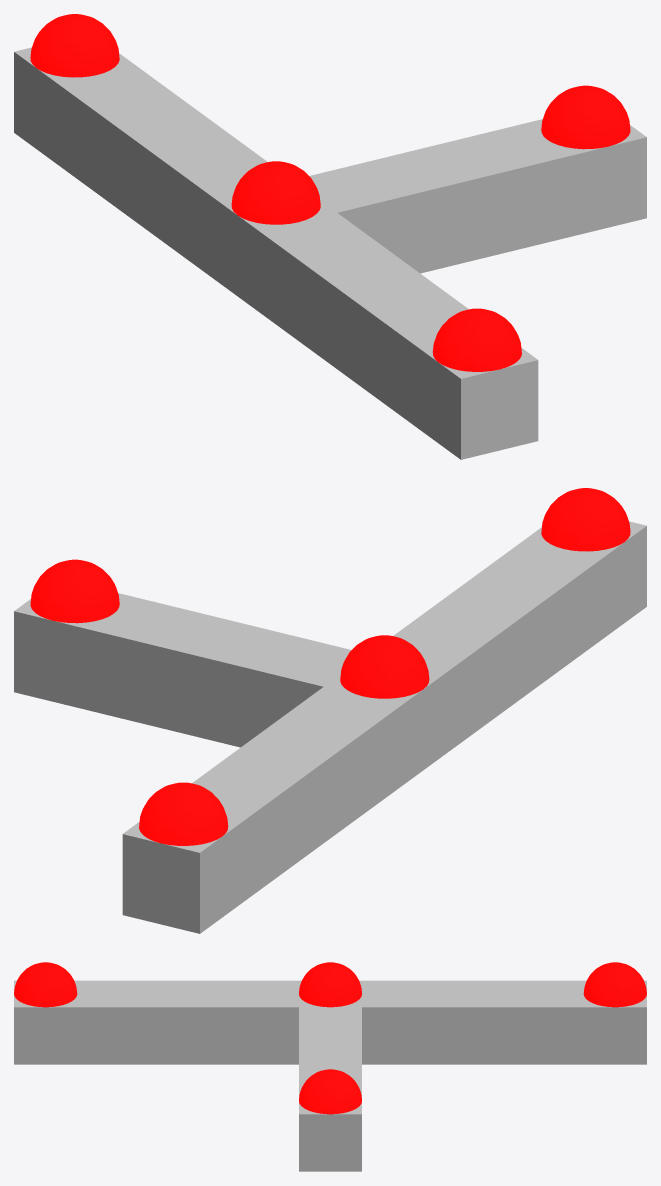
File: ir_marker.dae
3 views of the same model, one above another, from view 1: azimuth 30°, elevation 25°; view 2: azimuth 150°, elevation 25°; view 3: azimuth 270°, elevation 25° (orthographic). The views are drawn at different scales.
Parts seen in each view (by area): view 1: bar_lr, bar_fb, marker_c, marker_l, marker_r, marker_f; view 2: bar_lr, bar_fb, marker_c, marker_l, marker_r, marker_f; view 3: bar_lr, bar_fb, marker_l, marker_r, marker_c, marker_f.
Boxes of the visible parts, left/top/right/bottom form: bar_lr: left=14, top=47, right=538, bottom=459; bar_fb: left=309, top=119, right=646, bottom=273; marker_c: left=231, top=161, right=320, bottom=224; marker_l: left=30, top=14, right=119, bottom=77; marker_r: left=432, top=308, right=521, bottom=371; marker_f: left=541, top=85, right=630, bottom=149; bar_lr: left=122, top=521, right=646, bottom=933; bar_fb: left=14, top=593, right=351, bottom=747; marker_c: left=340, top=635, right=429, bottom=698; marker_l: left=139, top=782, right=228, bottom=845; marker_r: left=541, top=488, right=630, bottom=551; marker_f: left=30, top=559, right=119, bottom=623; bar_lr: left=14, top=980, right=646, bottom=1064; bar_fb: left=299, top=1007, right=361, bottom=1171; marker_l: left=583, top=962, right=646, bottom=1007; marker_r: left=14, top=962, right=77, bottom=1007; marker_c: left=299, top=962, right=361, bottom=1007; marker_f: left=299, top=1069, right=361, bottom=1114.
Bounding box in the file's own units: 0.05 × 0.1 × 0.015.
